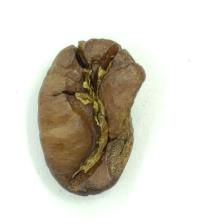NG: (57, 40, 120, 180)
